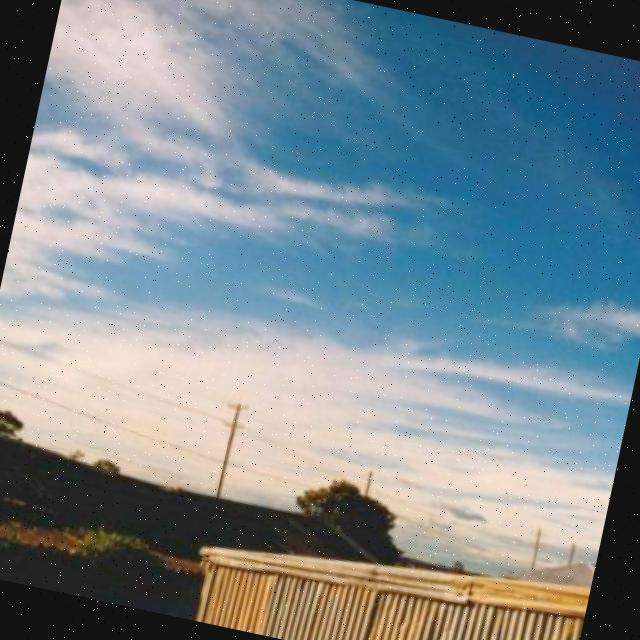Cs: (1, 1, 640, 437)
